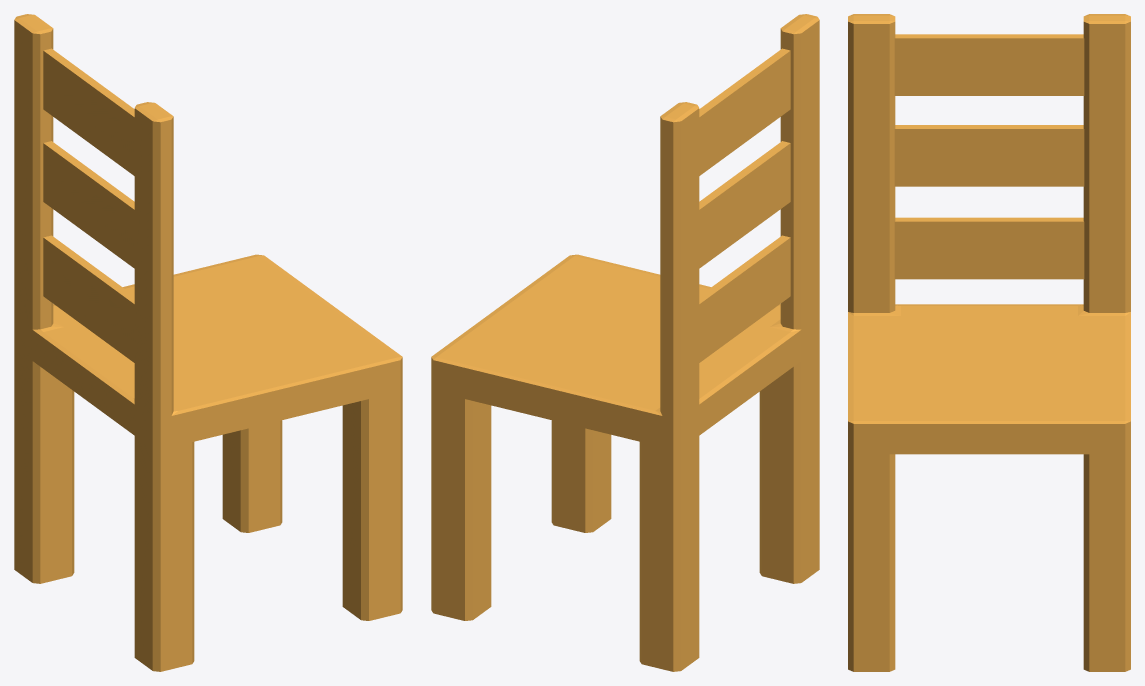
The model's file is woodenChair.fbx.
3 renders of one model, left to right at view 1: azimuth 30°, elevation 25°; view 2: azimuth 150°, elevation 25°; view 3: azimuth 270°, elevation 25°, orthographic. The views are drawn at different scales.
Parts seen in each view (by area): view 1: Chair base, Cube, Cube.002, Cube.003; view 2: Chair base, Cube, Cube.002, Cube.003; view 3: Chair base, Cube, Cube.002, Cube.003.
Boxes of the visible parts, <box> form: Chair base: <box>14,14,402,671</box>; Cube: <box>43,235,134,362</box>; Cube.002: <box>43,141,134,268</box>; Cube.003: <box>43,48,134,175</box>; Chair base: <box>431,14,819,671</box>; Cube: <box>699,235,790,362</box>; Cube.002: <box>699,141,790,268</box>; Cube.003: <box>699,48,790,175</box>; Chair base: <box>848,14,1130,671</box>; Cube: <box>894,217,1084,279</box>; Cube.002: <box>894,125,1084,186</box>; Cube.003: <box>894,34,1084,95</box>.
Size of the model in its own units: 50 by 105 by 50.
